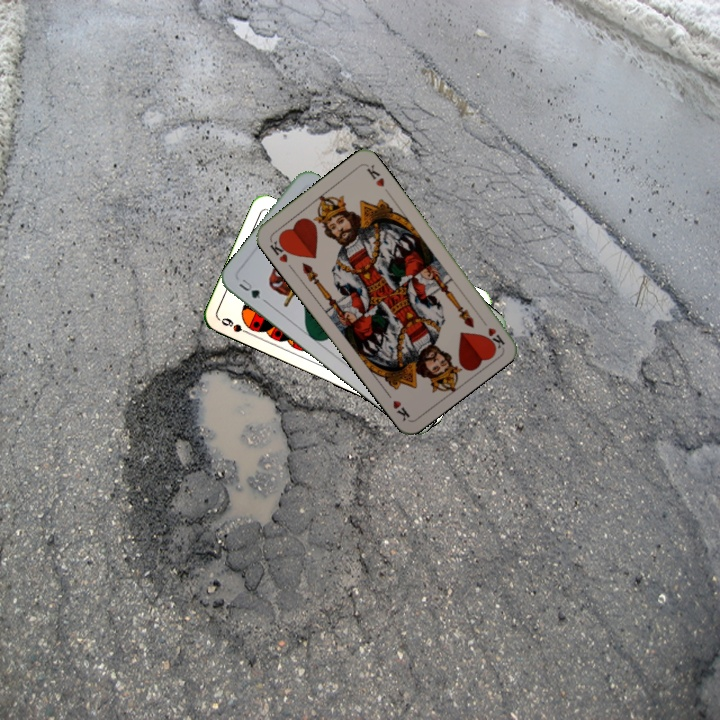GU: (235, 275, 263, 301)
HK: (476, 313, 507, 350), (266, 234, 294, 265)
S9: (217, 314, 255, 338)
